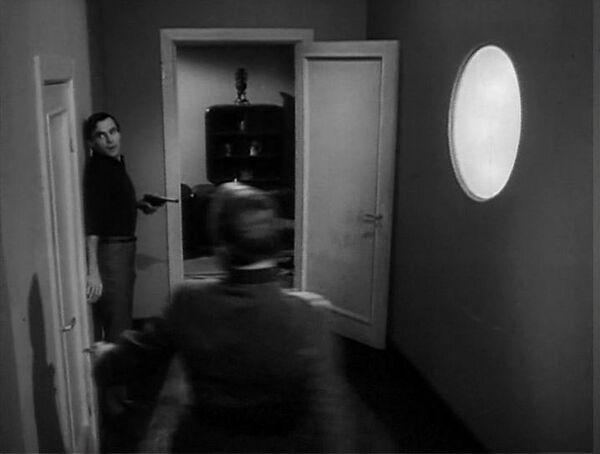Gun: (140, 193, 179, 210)
